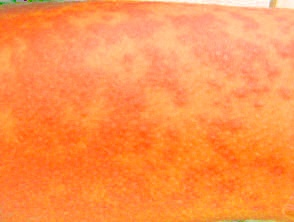SJS-TEN: (0, 1, 294, 212)
